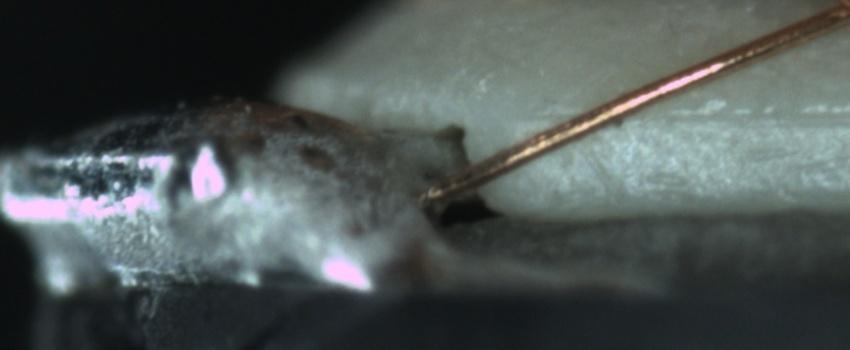DL: (532, 86, 850, 149)
